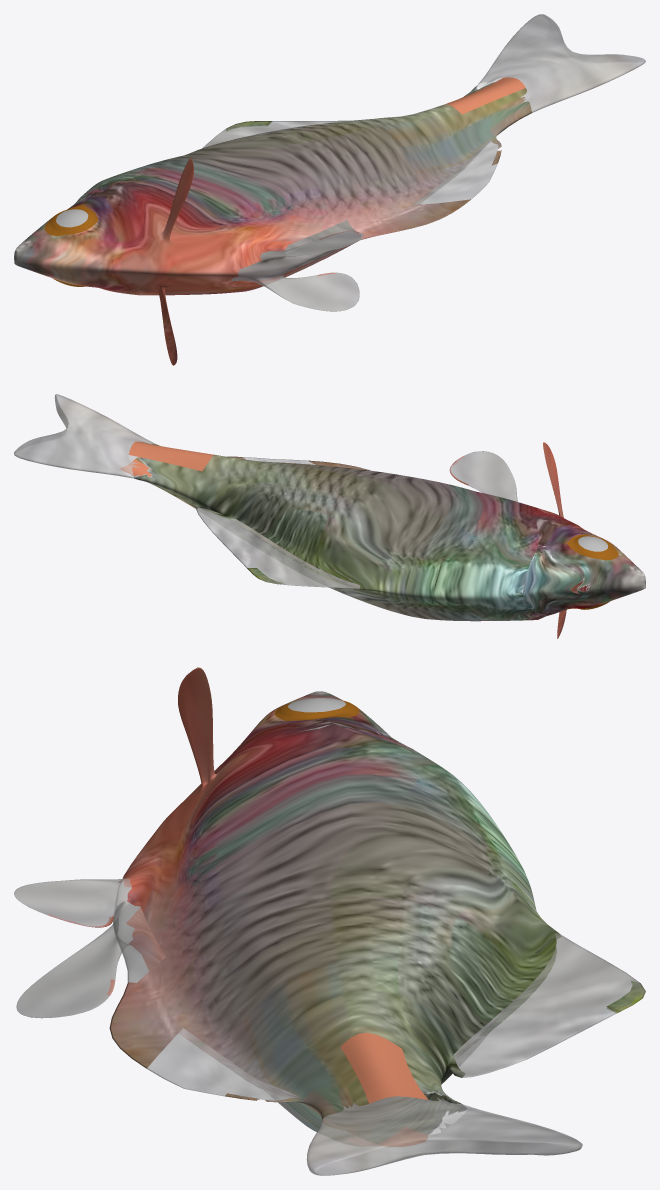
The model's file is kurumeusu.fbx.
3 renders of one model, top to bottom at view 1: azimuth 30°, elevation 25°; view 2: azimuth 150°, elevation 25°; view 3: azimuth 270°, elevation 25°, orthographic. The views are drawn at different scales.
Parts seen in each view (by area): view 1: pCube2; view 2: pCube2; view 3: pCube2.
Part boxes in pixels (x1,y1,x2,y2): pCube2: (14, 14, 645, 365); pCube2: (14, 394, 645, 638); pCube2: (14, 667, 645, 1175).
Bounding box in the file's own units: 7.18 × 2.23 × 3.49.
